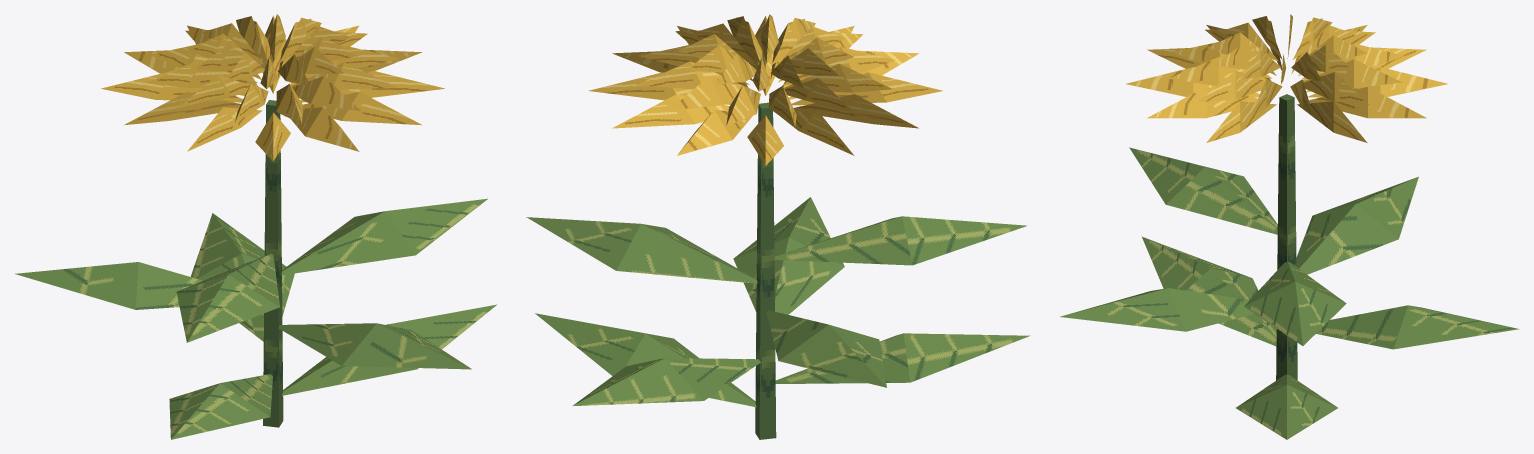
Rendered from flor-dente-de-leao-v01.gltf.
The picture shows the model from 3 angles, left to right: view 1: azimuth 30°, elevation 25°; view 2: azimuth 150°, elevation 25°; view 3: azimuth 270°, elevation 25°; orthographic projection. The views are drawn at different scales.
Parts seen in each view (by area): view 1: folhas, petalas, hastes; view 2: folhas, petalas, hastes; view 3: folhas, petalas, hastes.
Boxes of the visible parts, x1=… form: folhas: x1=15, y1=198, x2=496, y2=439; petalas: x1=101, y1=14, x2=444, y2=161; hastes: x1=263, y1=100, x2=283, y2=427; folhas: x1=526, y1=197, x2=1030, y2=407; petalas: x1=588, y1=14, x2=942, y2=165; hastes: x1=755, y1=102, x2=776, y2=439; folhas: x1=1060, y1=147, x2=1519, y2=439; petalas: x1=1126, y1=14, x2=1447, y2=142; hastes: x1=1276, y1=94, x2=1297, y2=380.
Size of the model in its own units: 0.6069 by 0.5454 by 0.626.
1 material, 1 textured.
